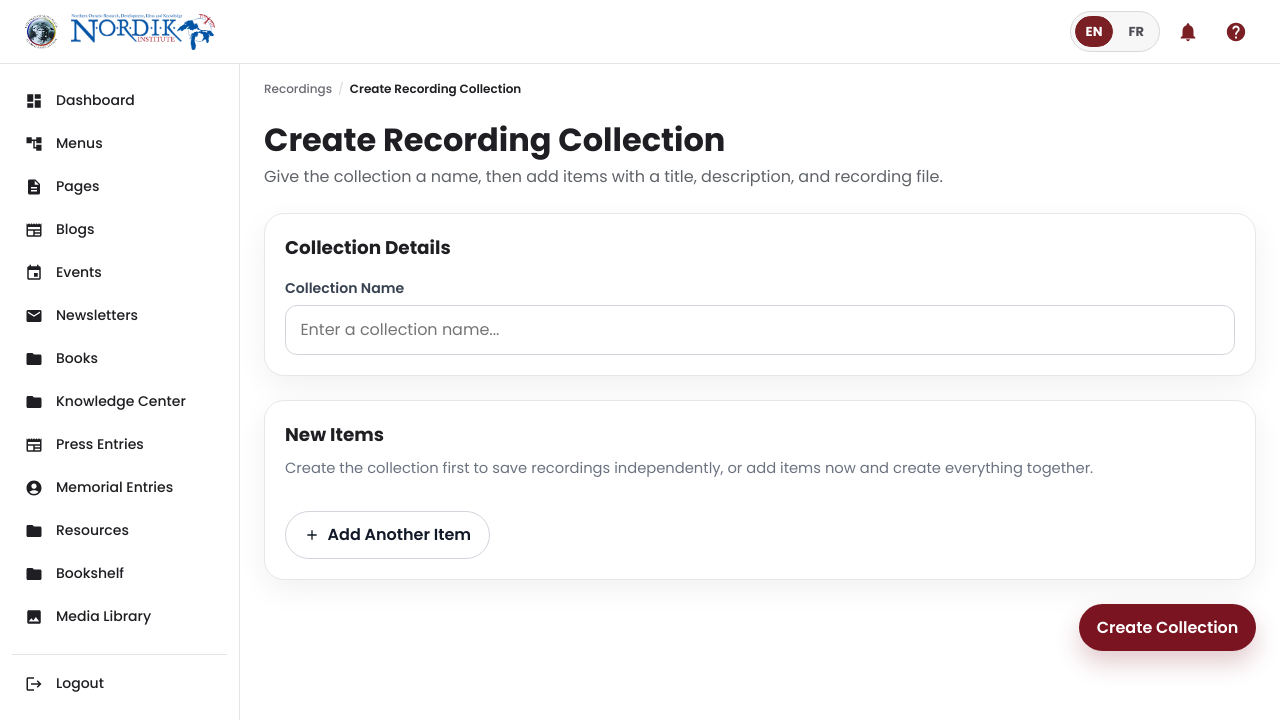
Test: RecordingCollectionEditorPage › blocks creation when the collection name is blank
Click the button "Create Collection". click: (1168, 628)
box: 1079,604 -> 1256,651
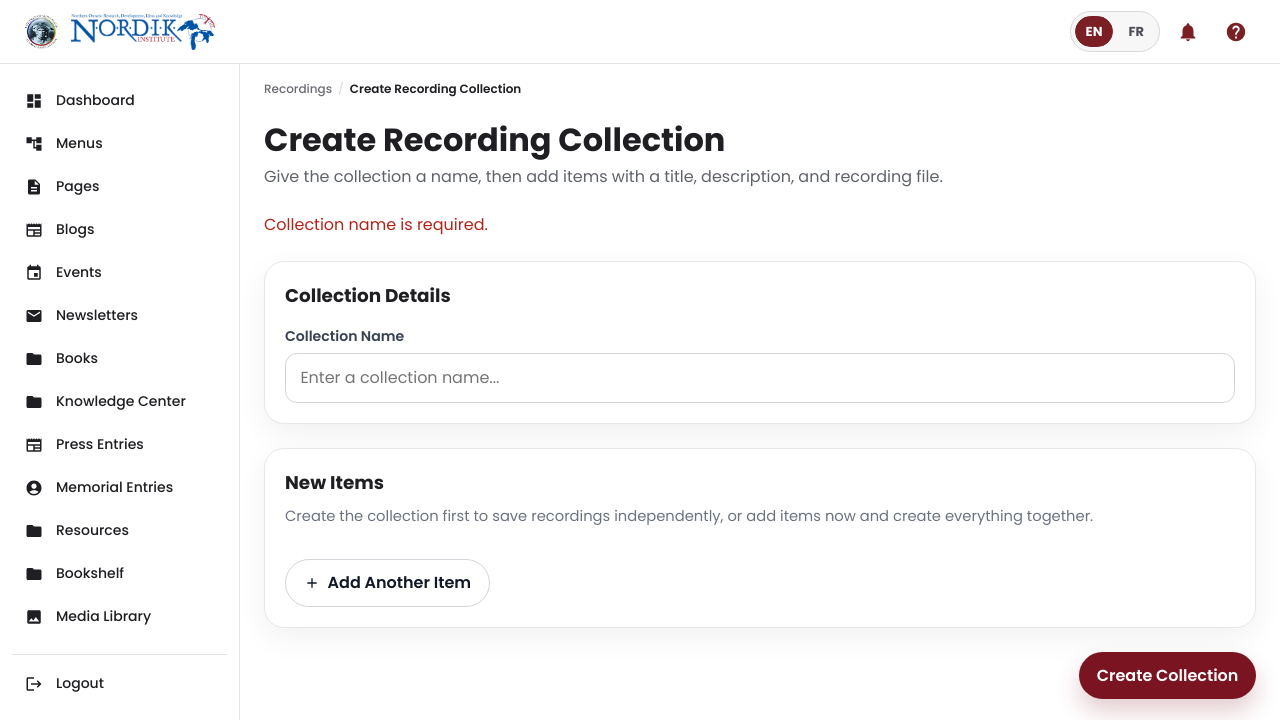
Now the text "Collection name is required." is shown, box 264,213 -> 488,236
